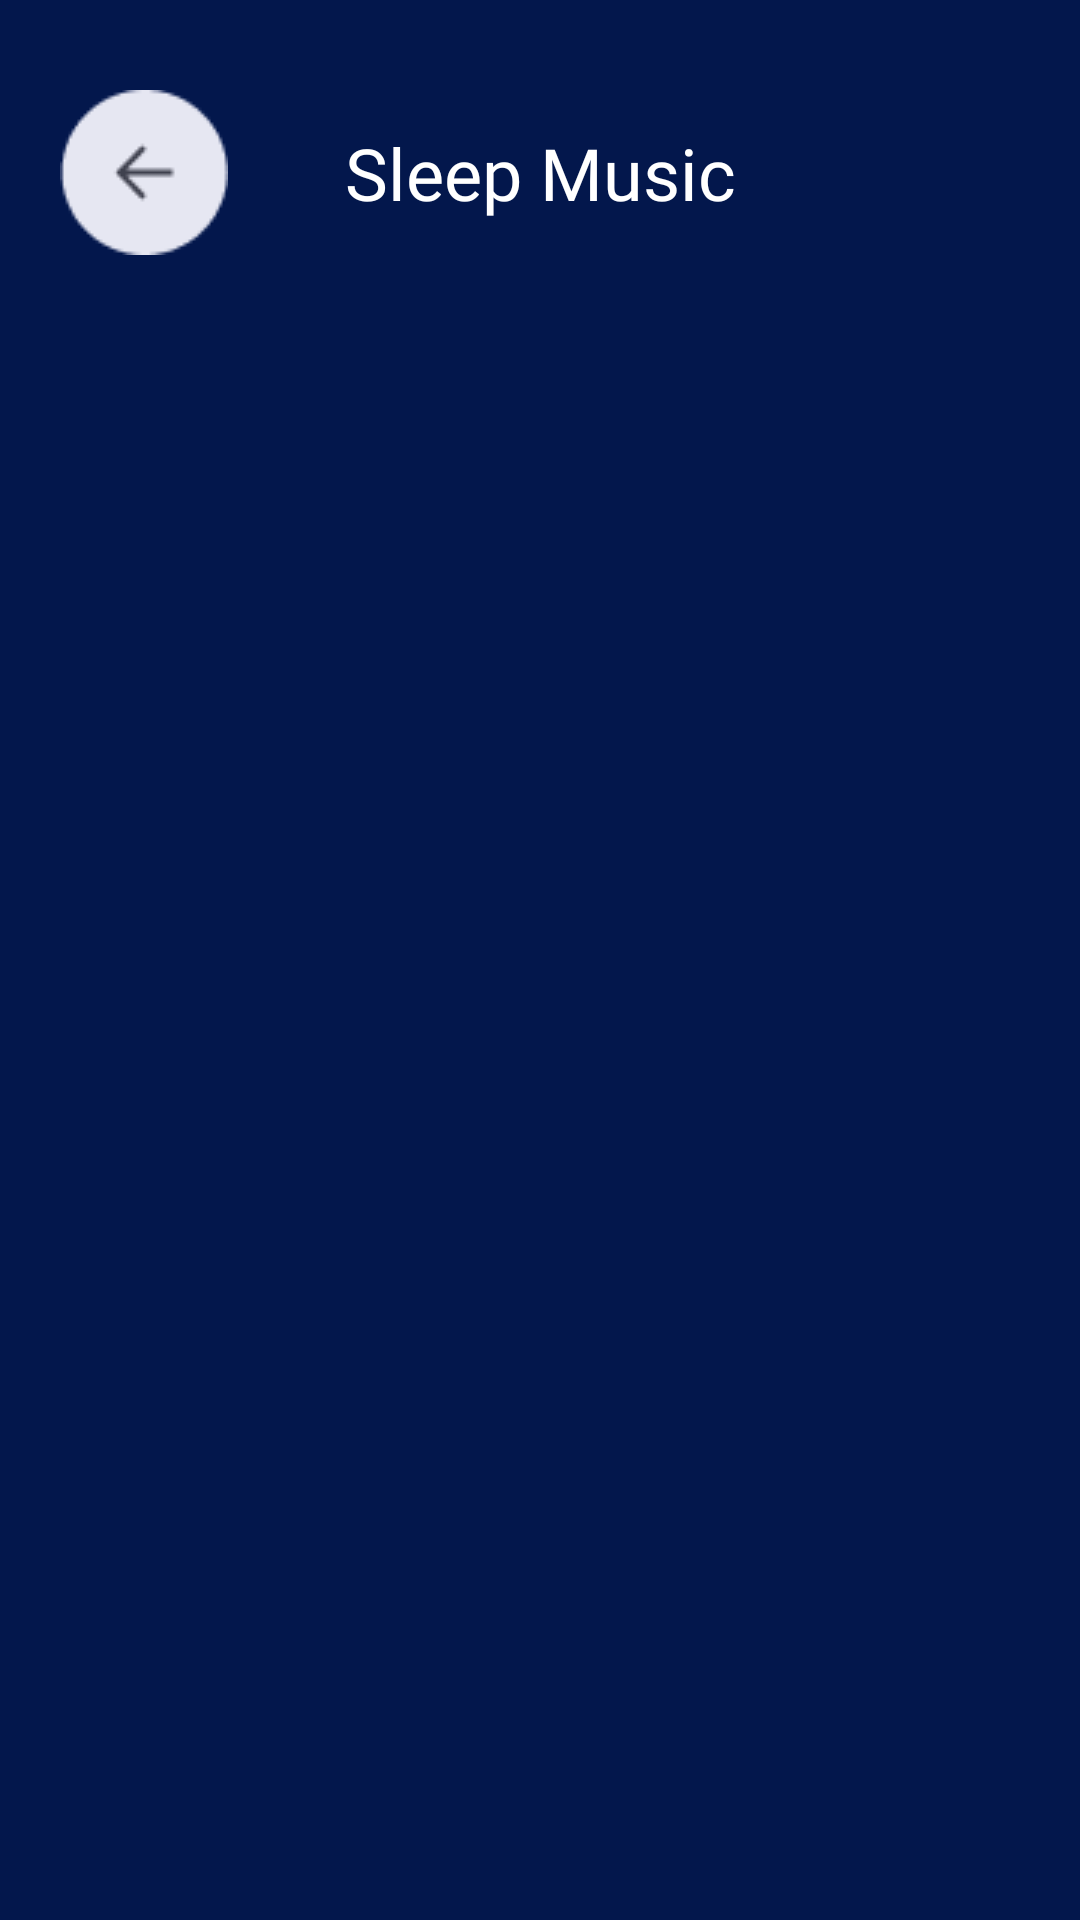

Icon bounding boxes for this 1080px x 1920px phone screenshot, format (x1, y1, x2, y2):
back: (60, 90, 228, 255)
